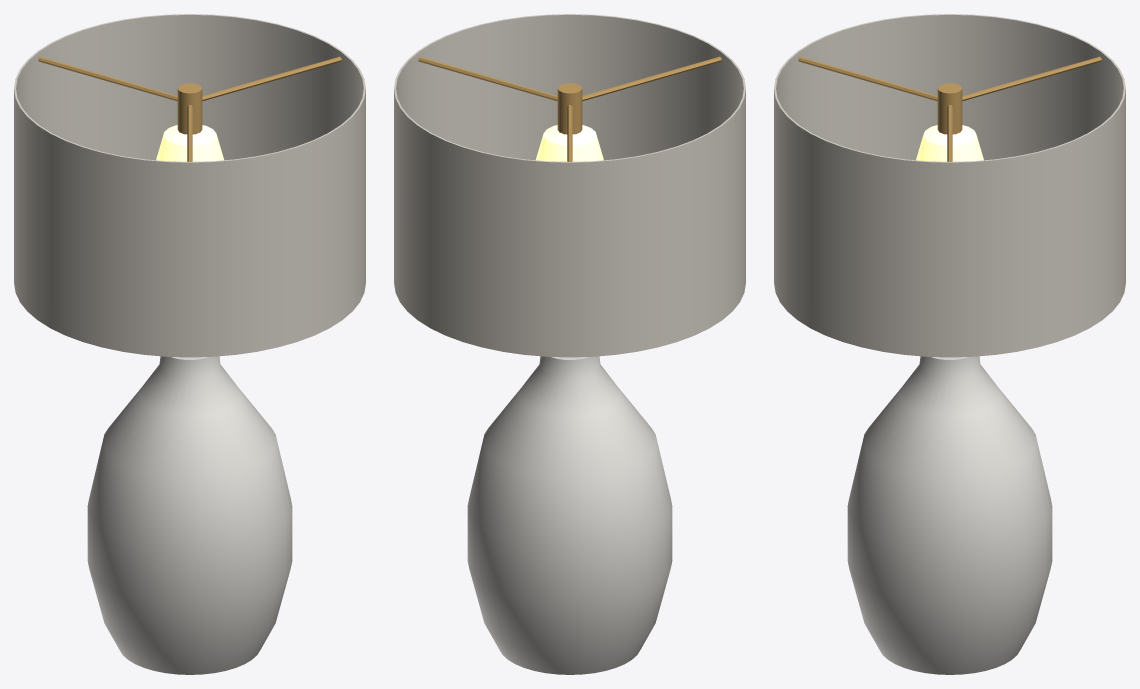
Rendered from table_lamp.glb.
3 renders of one model, left to right at view 1: azimuth 30°, elevation 25°; view 2: azimuth 150°, elevation 25°; view 3: azimuth 270°, elevation 25°, orthographic.
Parts seen in each view (by area): view 1: Shade_LOD0, Base_LOD0, Bulb_LOD0, Hub_LOD0, Spoke_LOD0, Spoke_LOD0.001; view 2: Shade_LOD0, Base_LOD0, Bulb_LOD0, Hub_LOD0, Spoke_LOD0, Spoke_LOD0.002; view 3: Shade_LOD0, Base_LOD0, Bulb_LOD0, Hub_LOD0, Spoke_LOD0.001, Spoke_LOD0.002.
Part boxes in pixels (left/top/right/bottom): Shade_LOD0: left=14, top=14, right=365, bottom=357; Base_LOD0: left=87, top=356, right=292, bottom=674; Bulb_LOD0: left=156, top=125, right=223, bottom=161; Hub_LOD0: left=177, top=83, right=202, bottom=134; Spoke_LOD0: left=202, top=56, right=341, bottom=101; Spoke_LOD0.001: left=38, top=56, right=177, bottom=101; Shade_LOD0: left=394, top=14, right=745, bottom=357; Base_LOD0: left=467, top=356, right=672, bottom=674; Bulb_LOD0: left=536, top=125, right=603, bottom=161; Hub_LOD0: left=557, top=83, right=582, bottom=134; Spoke_LOD0: left=418, top=56, right=557, bottom=101; Spoke_LOD0.002: left=582, top=56, right=721, bottom=101; Shade_LOD0: left=774, top=14, right=1125, bottom=357; Base_LOD0: left=847, top=356, right=1052, bottom=674; Bulb_LOD0: left=916, top=125, right=983, bottom=161; Hub_LOD0: left=937, top=83, right=962, bottom=134; Spoke_LOD0.001: left=962, top=56, right=1101, bottom=101; Spoke_LOD0.002: left=798, top=56, right=937, bottom=101.
Bounding box in the file's own units: 0.344 × 0.6 × 0.344.
